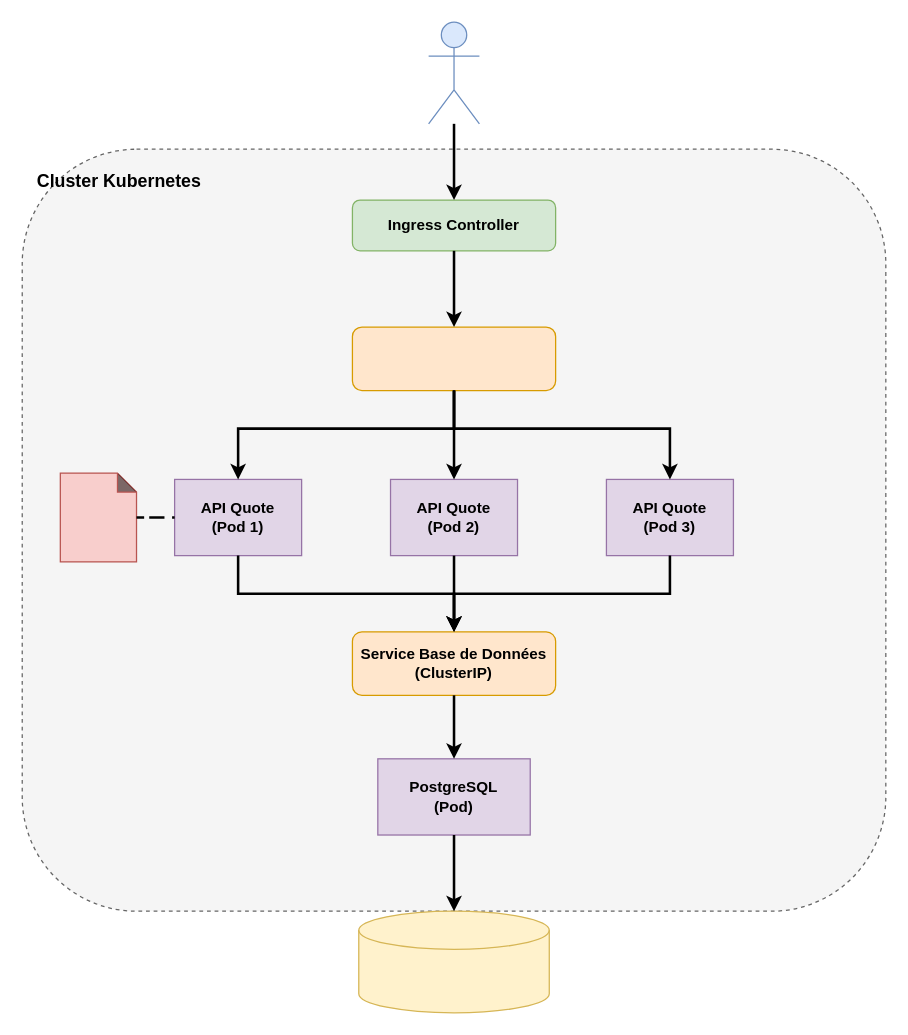
Image size: 908x1035. Some labels were removed from this diagram. Here are the shapes that lost their labels. From the top down, the centre of each, then its label:
pixel 453 72: Utilisateurs
pixel 453 358: Service Applicatif (ClusterIP)
pixel 98 517: K8s Secret (Identifiants BDD)
pixel 453 961: PersistentVolumeClaim (Stockage)
